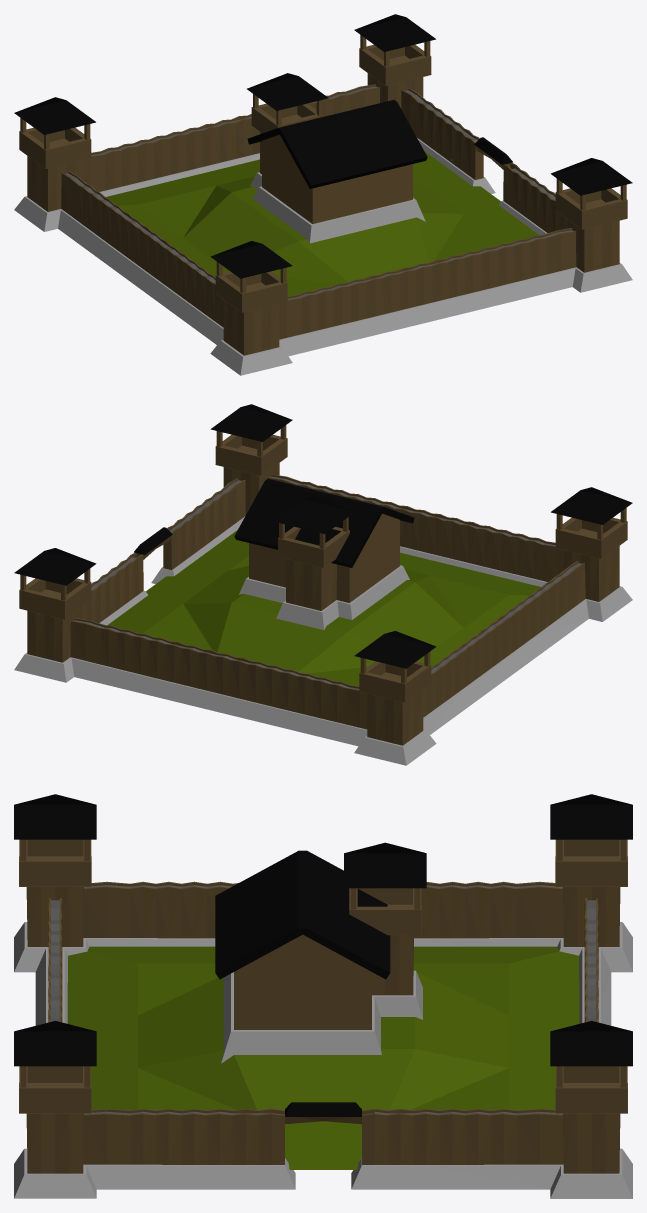
File: test.glb.gltf
The picture shows the model from 3 angles, top to bottom: view 1: azimuth 30°, elevation 25°; view 2: azimuth 150°, elevation 25°; view 3: azimuth 270°, elevation 25°; orthographic projection. The views are drawn at different scales.
Visible parts, largest first — view 1: walls, mound, stronghold; view 2: walls, mound, stronghold; view 3: walls, mound, stronghold.
Boxes of the visible parts, x1,y1,x2,y2 form: walls: (14,14,632,375); mound: (106,151,539,296); stronghold: (247,73,427,243); walls: (14,404,632,765); mound: (107,530,540,686); stronghold: (234,478,414,629); walls: (14,794,632,1198); mound: (67,946,579,1169); stronghold: (215,842,426,1063).
Size of the model in its own units: 3 by 1.16 by 3.
Materials: 2 (1 with a texture image).
